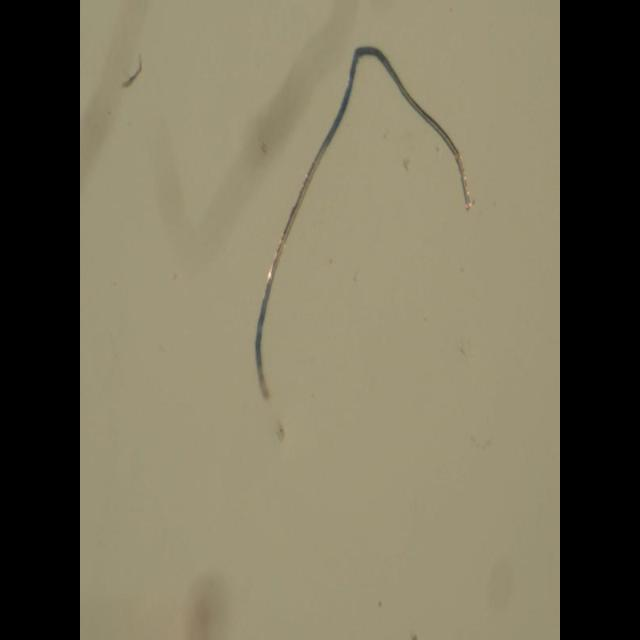Fibre: (253, 43, 474, 401)
